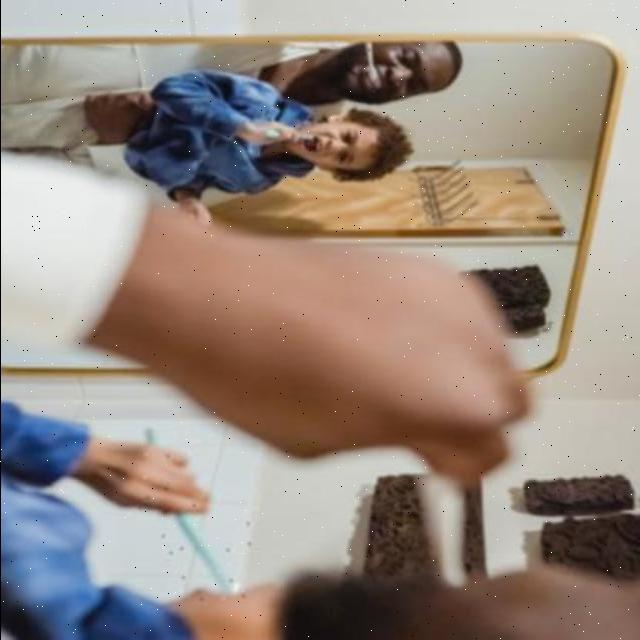toothbrush: (128, 426, 256, 602), (345, 42, 391, 88), (254, 124, 324, 148)
